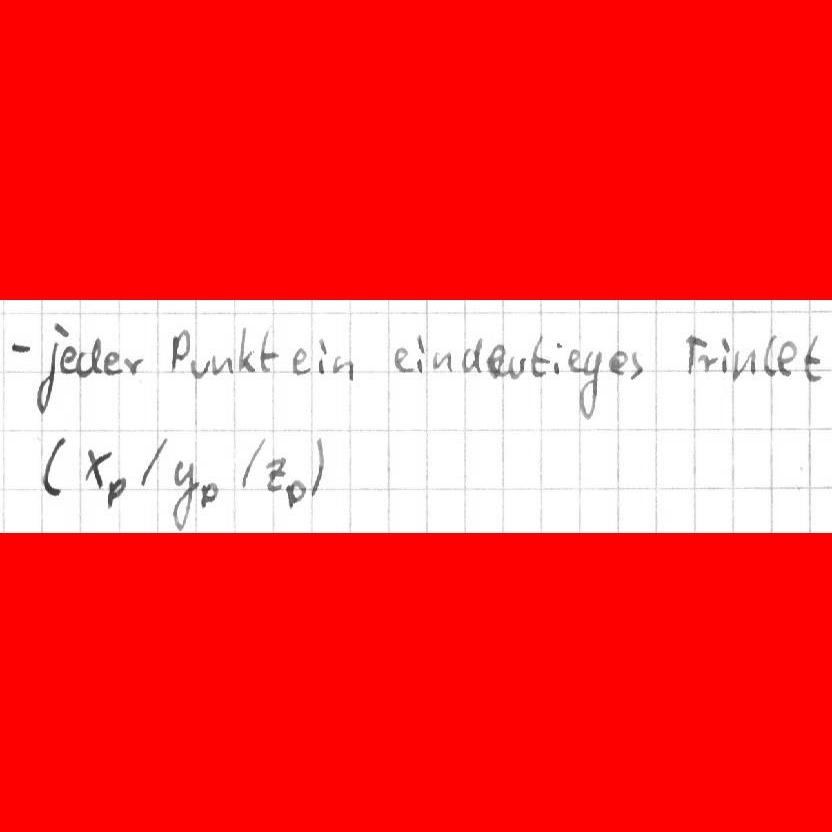Char: (36, 322, 69, 419), (167, 460, 196, 532), (38, 437, 67, 499), (578, 349, 603, 420), (138, 436, 167, 488), (83, 447, 113, 491), (239, 438, 263, 492), (684, 333, 710, 375), (803, 332, 823, 383), (79, 337, 101, 380), (236, 324, 255, 373), (168, 328, 190, 370), (310, 436, 325, 496), (461, 336, 483, 376), (264, 455, 287, 493), (731, 345, 755, 381), (258, 327, 278, 370), (104, 472, 127, 507), (283, 478, 307, 511), (530, 334, 547, 379), (776, 339, 796, 376), (488, 342, 506, 378), (331, 355, 354, 383), (58, 344, 77, 377), (291, 346, 311, 376), (761, 336, 776, 376), (608, 347, 628, 376), (102, 348, 122, 377), (431, 349, 454, 373), (210, 353, 234, 376), (198, 481, 219, 507), (506, 352, 527, 377), (392, 345, 411, 372), (122, 354, 143, 378), (7, 337, 32, 357), (628, 350, 645, 379), (190, 355, 210, 379), (414, 334, 426, 373), (566, 348, 584, 373), (315, 337, 327, 374), (697, 353, 718, 374), (552, 339, 563, 375), (719, 337, 729, 375)
